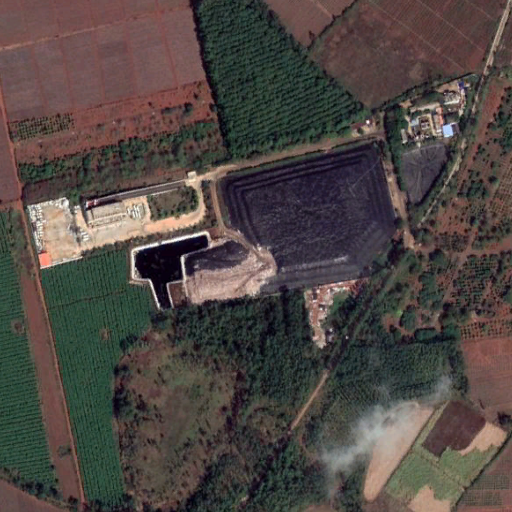lf: (182, 137, 398, 304)
